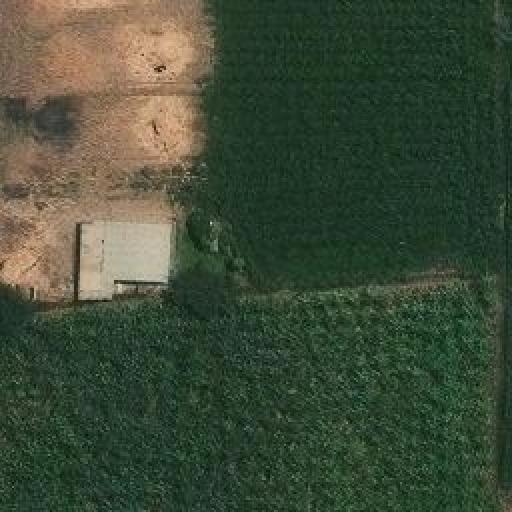manzanas: (73, 216, 175, 307)
